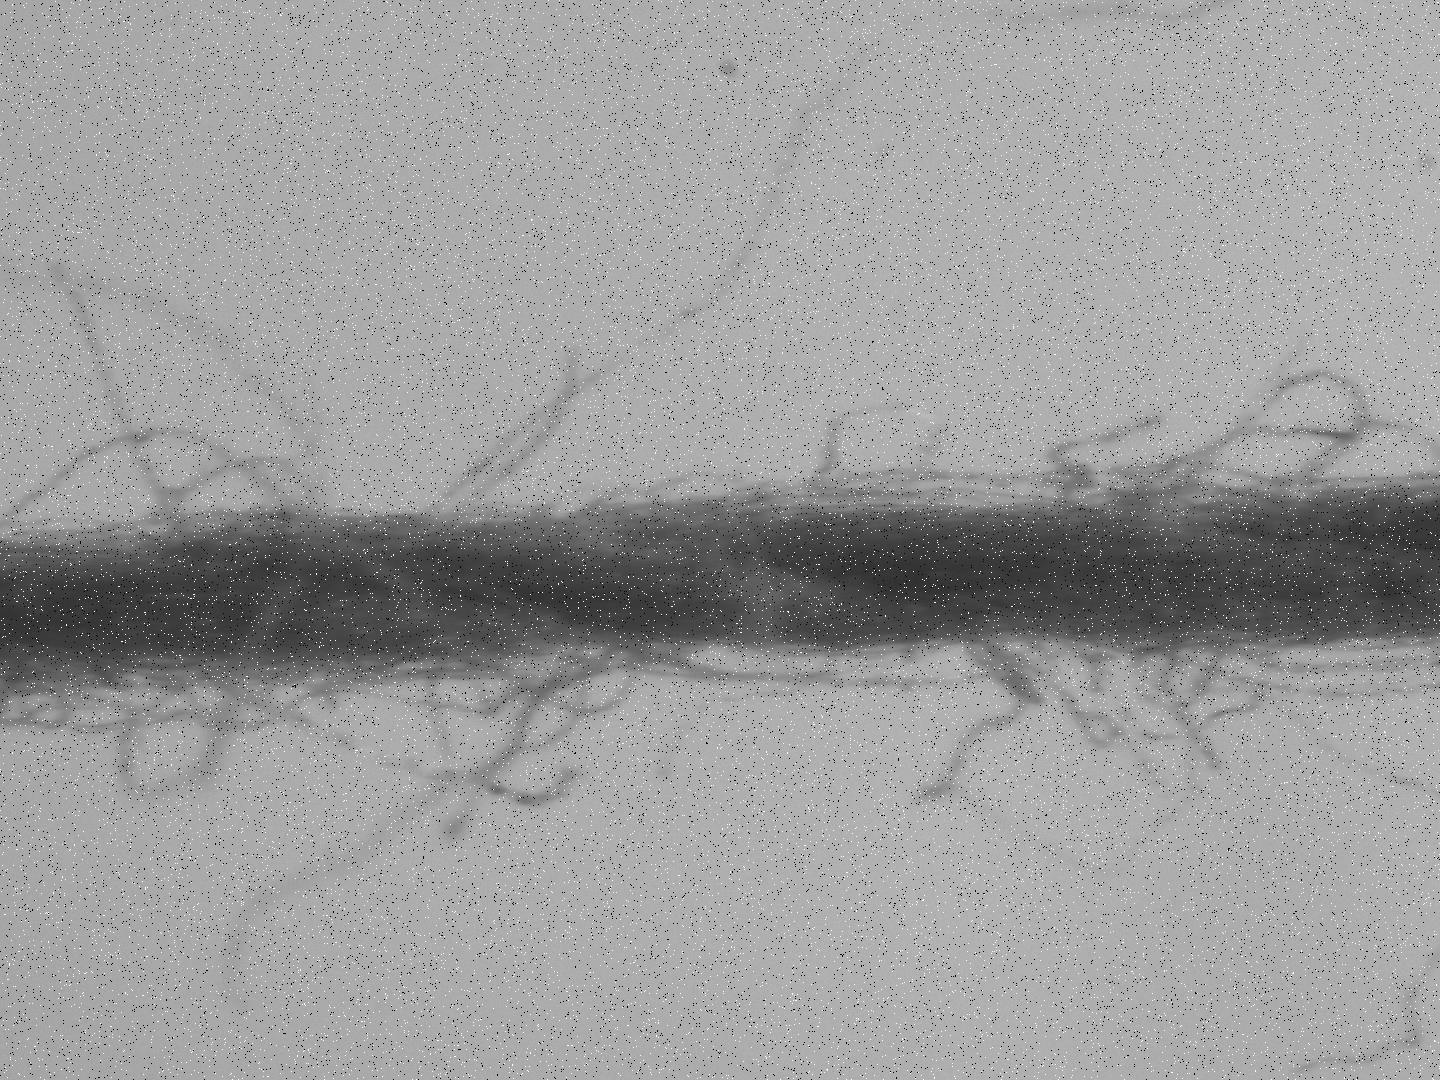loop_fiber: (768, 398, 956, 497)
protruding_fiber: (396, 31, 876, 523), (215, 650, 460, 1014)
